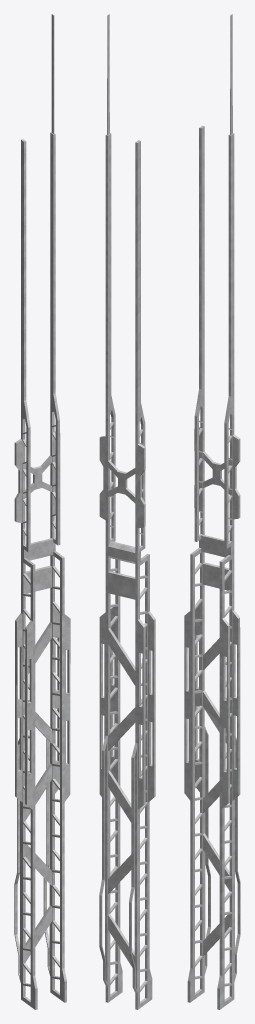
File: KB3D_NEC_BldgMD_A_AntennaA.glb
3 renders of one model, left to right at view 1: azimuth 30°, elevation 25°; view 2: azimuth 150°, elevation 25°; view 3: azimuth 330°, elevation 25°, orthographic.
Visible parts, largest first — view 1: KB3D_NEC_BldgMD_A_AntennaA; view 2: KB3D_NEC_BldgMD_A_AntennaA; view 3: KB3D_NEC_BldgMD_A_AntennaA.
Part boxes in pixels (<box>): KB3D_NEC_BldgMD_A_AntennaA: <box>14,14,70,1009</box>; KB3D_NEC_BldgMD_A_AntennaA: <box>99,14,155,1009</box>; KB3D_NEC_BldgMD_A_AntennaA: <box>184,14,240,1009</box>.
Size of the model in its own units: 1.27 by 27.05 by 1.04.
1 material, 1 textured.
